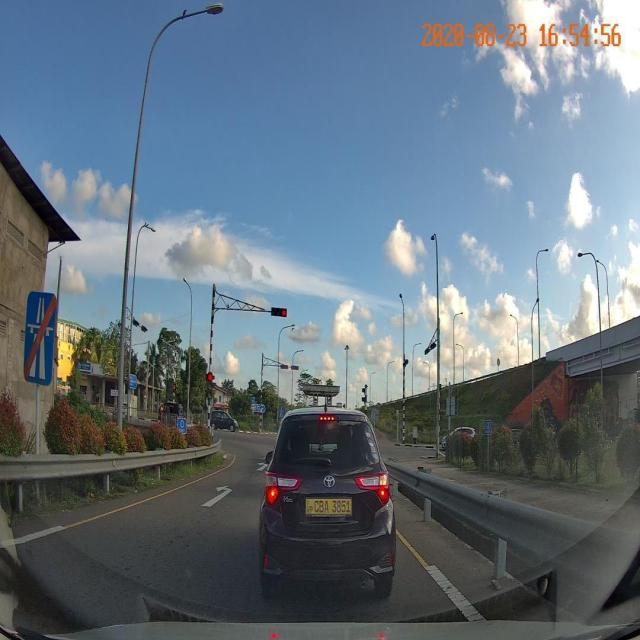Liniya 1: (63, 473, 210, 528), (422, 564, 490, 622), (2, 525, 67, 549), (395, 526, 430, 567)
Strelka vlevo: (200, 485, 234, 508), (254, 461, 270, 472)
